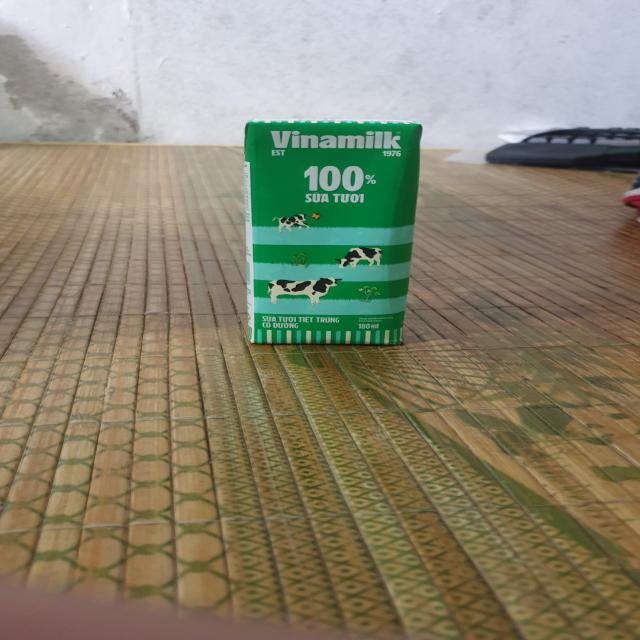Vina: (235, 123, 424, 350)
